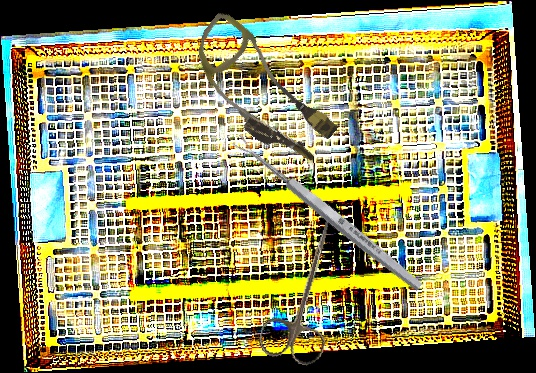Cannula: (171, 8, 352, 175)
Iris Scissors: (255, 206, 358, 369)
Surgical Spoon: (231, 132, 425, 294)
